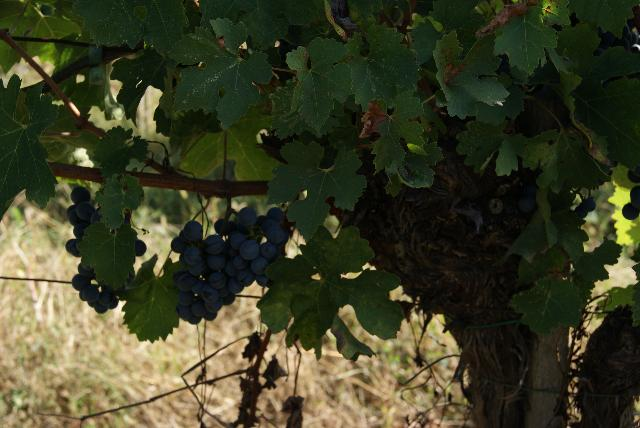grapes: (171, 208, 289, 325)
